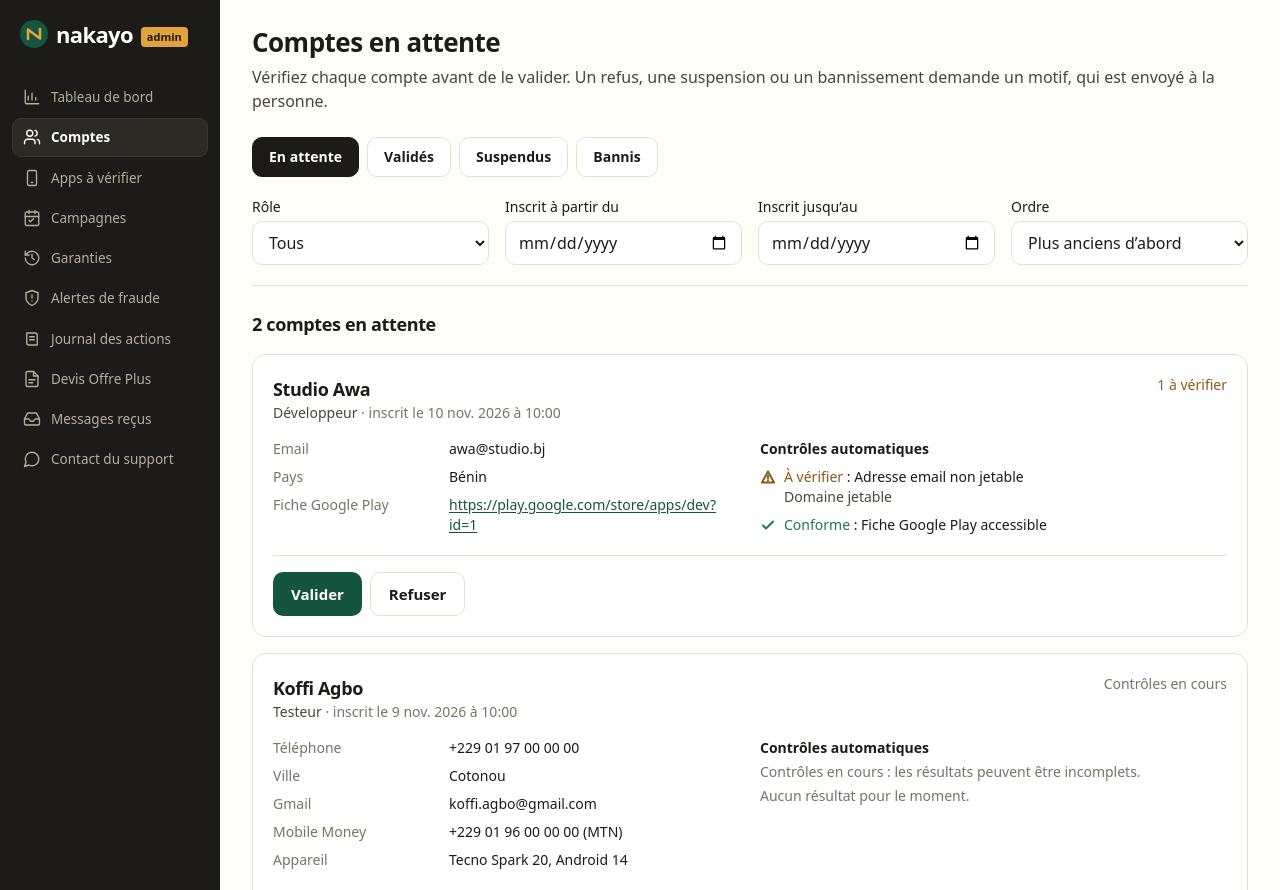
it: Back-office : comptes en attente (US-08) › annule un refus avec Échap et rend le focus au bouton Refuser
Click the button with aria-label "Refuser le compte de Studio Awa" at (418, 594), box [370,572,465,616]
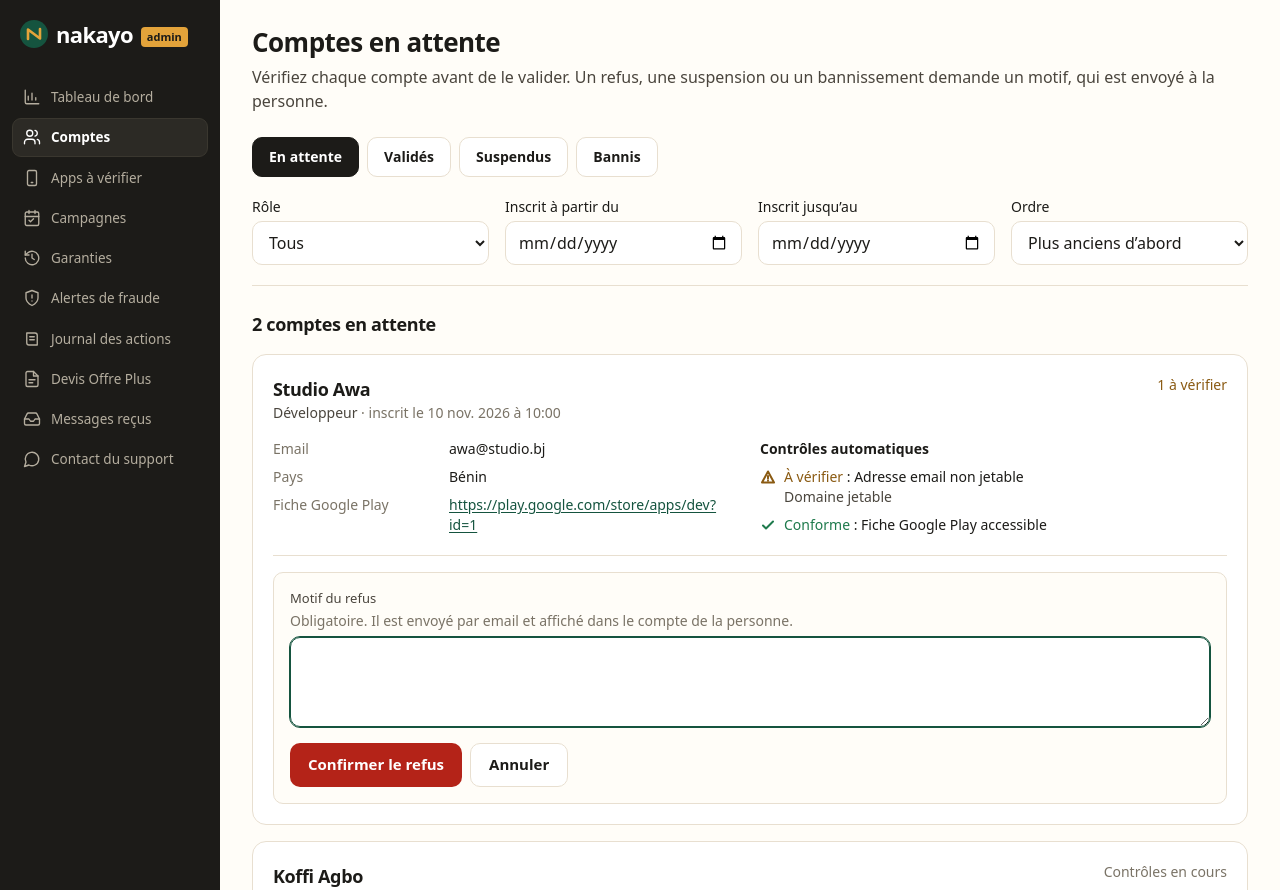
Press Escape
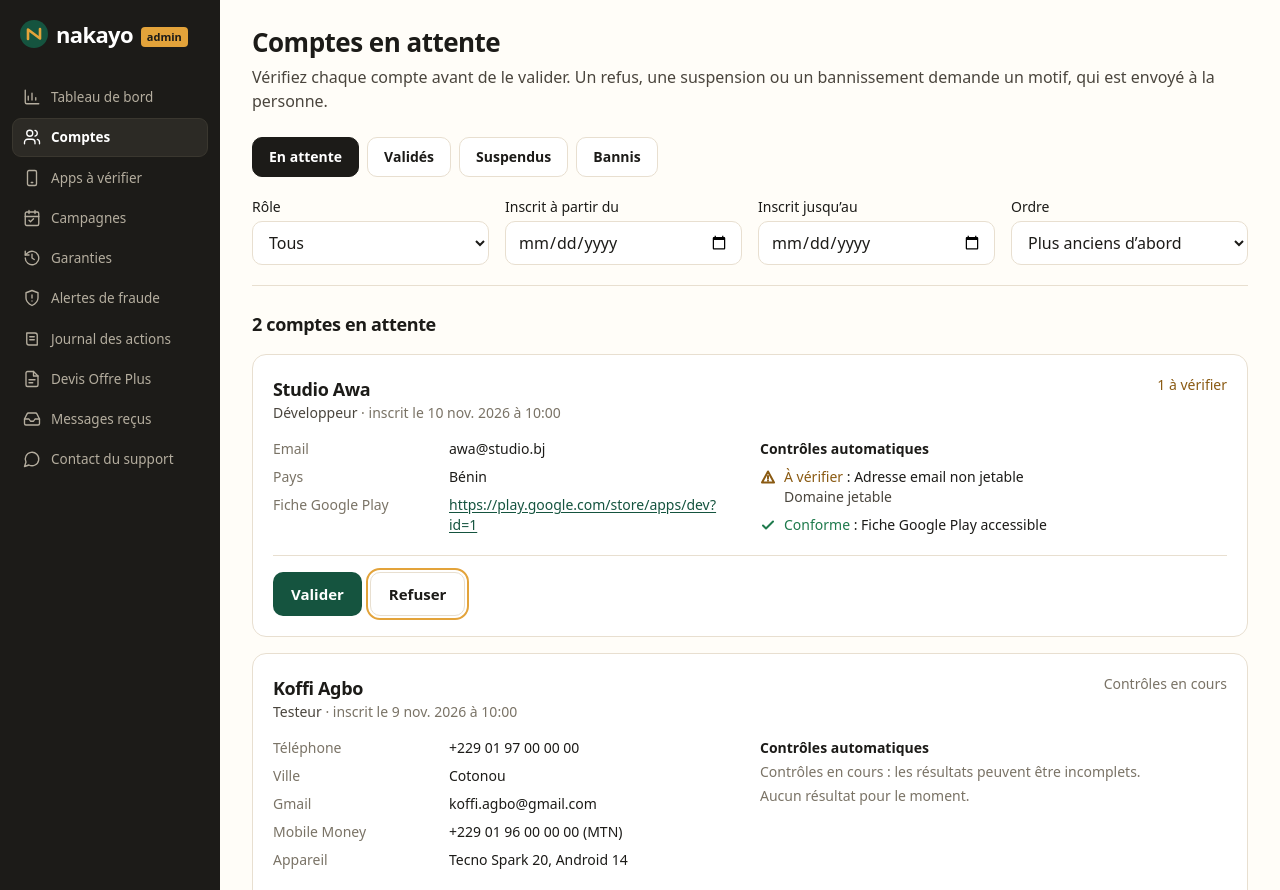
expect the label labelled "Motif du refus" is gone: met
